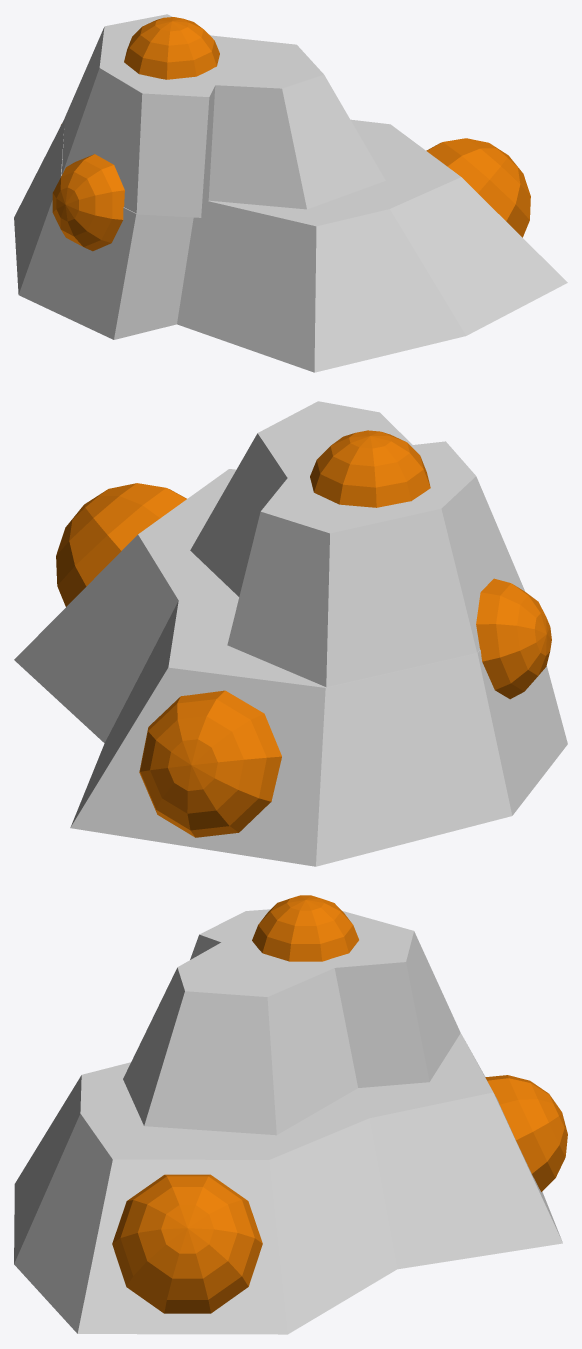
File: Ambar_Tipo1.fbx
The picture shows the model from 3 angles, top to bottom: view 1: azimuth 30°, elevation 25°; view 2: azimuth 150°, elevation 25°; view 3: azimuth 270°, elevation 25°; orthographic projection. The views are drawn at different scales.
Parts seen in each view (by area): view 1: base.004, Sphere.003, Sphere.001, ambar; view 2: base.004, Sphere.002, Sphere.001, ambar, Sphere.003; view 3: base.004, Sphere.001, ambar, Sphere.002.
Part boxes in pixels (x1=…): base.004: x1=14, y1=14, x2=567, y2=372; Sphere.003: x1=52, y1=154, x2=124, y2=251; Sphere.001: x1=426, y1=138, x2=530, y2=237; ambar: x1=124, y1=17, x2=219, y2=79; base.004: x1=14, y1=401, x2=567, y2=866; Sphere.002: x1=139, y1=690, x2=281, y2=837; Sphere.001: x1=56, y1=483, x2=186, y2=606; ambar: x1=310, y1=430, x2=430, y2=507; Sphere.003: x1=476, y1=578, x2=551, y2=699; base.004: x1=14, y1=909, x2=562, y2=1334; Sphere.001: x1=112, y1=1174, x2=262, y2=1313; ambar: x1=252, y1=895, x2=358, y2=961; Sphere.002: x1=485, y1=1075, x2=567, y2=1191.
Size of the model in its own units: 134 by 76.14 by 137.
